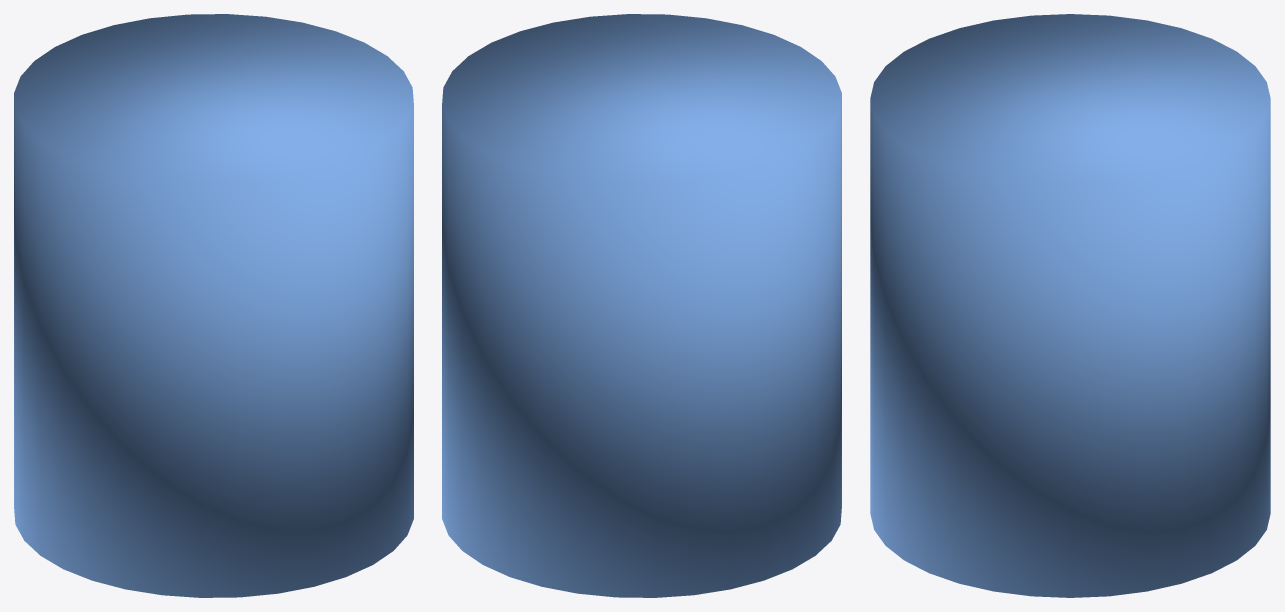
File: water.glb
3 renders of one model, left to right at view 1: azimuth 30°, elevation 25°; view 2: azimuth 150°, elevation 25°; view 3: azimuth 270°, elevation 25°, orthographic.
Visible parts, largest first — view 1: Cylinder; view 2: Cylinder; view 3: Cylinder.
Boxes of the visible parts, box(x1,y1,x2,y2) form: Cylinder: box(14, 14, 413, 597); Cylinder: box(442, 14, 841, 597); Cylinder: box(870, 14, 1270, 597).
Size of the model in its own units: 0.14 by 0.16 by 0.14.
